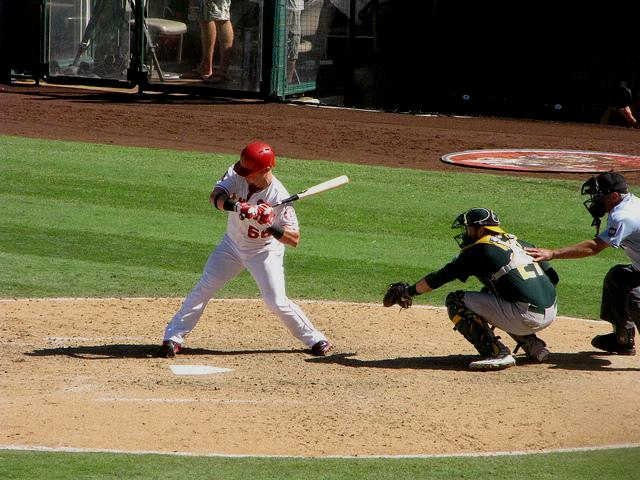baseball bat: (272, 174, 350, 208)
